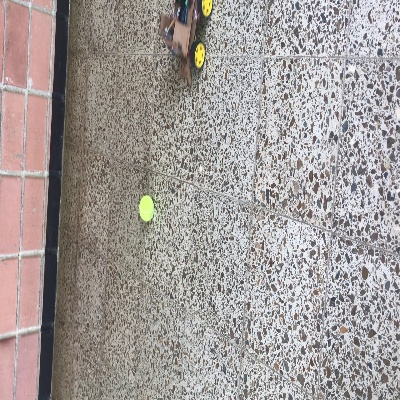Ball: (139, 195, 154, 220)
Robot: (157, 0, 213, 85)
